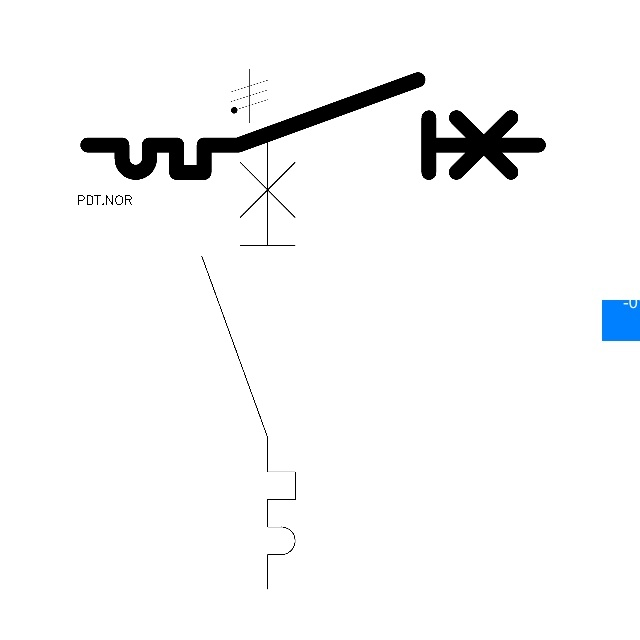interruptor_termomagnetico: (190, 123, 307, 601), (76, 68, 549, 184)
